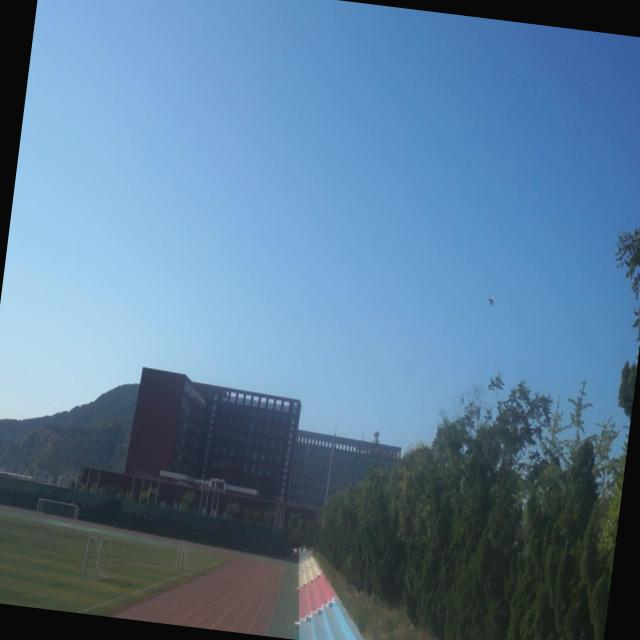drone: (484, 289, 500, 310)
